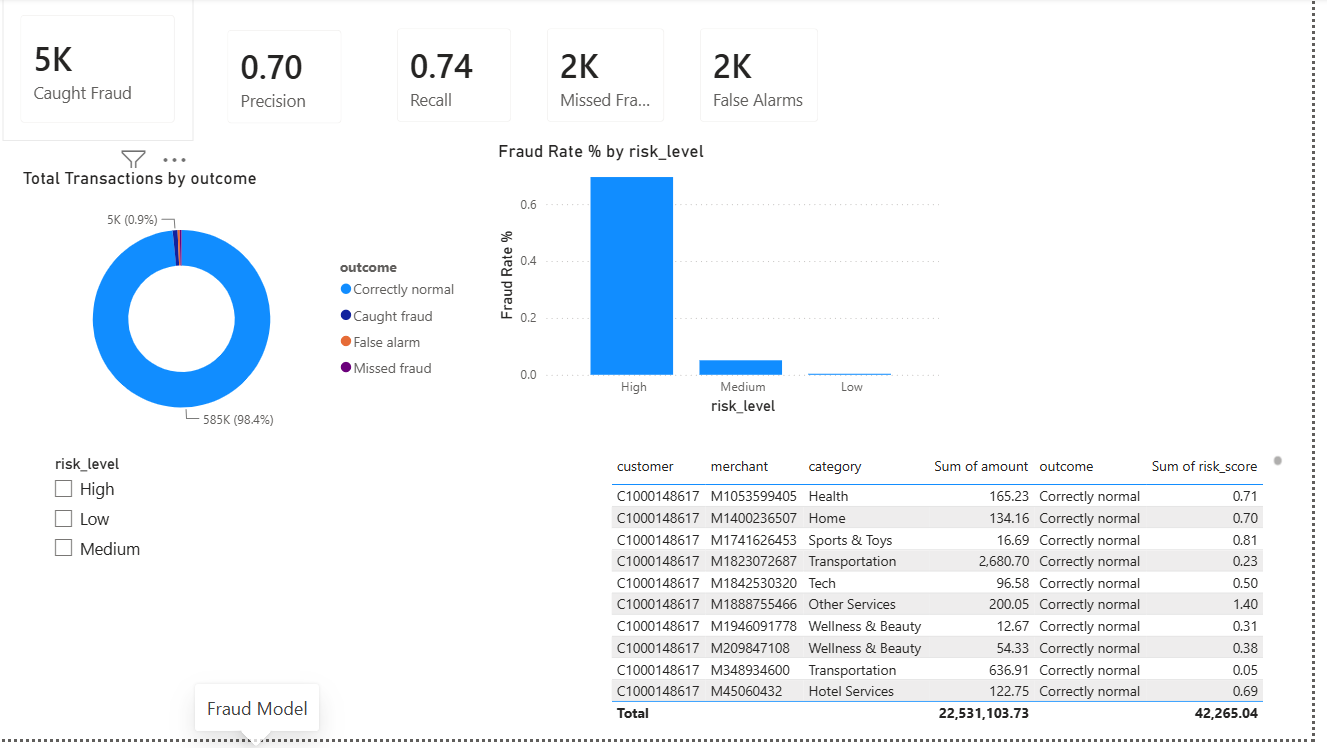

What the dashboard file says about the page in this screenshot:
{"tool":"powerbi","page":{"name":"Fraud Model","canvas":[1280,720],"ordinal":1},"visuals":[{"type":"cardVisual","fields":{"Data":["powerbi_data.Caught Fraud"]},"box":[10.6,0,184.7,139.3],"z":0},{"type":"cardVisual","fields":{"Data":["powerbi_data.Missed Fraud"]},"box":[520.9,13.6,148.4,125.7],"z":1},{"type":"cardVisual","fields":{"Data":["powerbi_data.False Alarms"]},"box":[669.3,13.6,149.9,125.7],"z":2},{"type":"cardVisual","fields":{"Data":["powerbi_data.Precision"]},"box":[210.5,15.1,145.4,125.7],"z":3},{"type":"cardVisual","fields":{"Data":["powerbi_data.Recall"]},"box":[375.5,13.6,145.4,125.7],"z":4},{"type":"donutChart","fields":{"Y":["powerbi_data.Total Transactions"],"Category":["powerbi_data.outcome"]},"box":[24.2,166.6,437.6,272.6],"z":5},{"type":"clusteredColumnChart","fields":{"Y":["powerbi_data.Fraud Rate %"],"Category":["powerbi_data.risk_level"]},"box":[486.1,139.3,437.6,269.5],"z":6},{"type":"tableEx","fields":{"Values":["powerbi_data.customer","powerbi_data.merchant","powerbi_data.category","Sum(powerbi_data.amount)","powerbi_data.outcome","Sum(powerbi_data.risk_score)"]},"box":[595.1,439.1,661.7,269.5],"z":7},{"type":"slicer","fields":{"Values":["powerbi_data.risk_level"]},"box":[48.5,439.1,437.6,269.5],"z":8}]}

Visuals, with their boxes in screenshot pixels (x1, y1, x2, y2), scaled from the page's 1280x720 canvas onto the 1327x748 screenshot:
cardVisual - powerbi_data.Caught Fraud: <region>11, 0, 202, 145</region>
cardVisual - powerbi_data.Missed Fraud: <region>540, 14, 694, 145</region>
cardVisual - powerbi_data.False Alarms: <region>694, 14, 849, 145</region>
cardVisual - powerbi_data.Precision: <region>218, 16, 369, 146</region>
cardVisual - powerbi_data.Recall: <region>389, 14, 540, 145</region>
donutChart - powerbi_data.Total Transactions x powerbi_data.outcome: <region>25, 173, 479, 456</region>
clusteredColumnChart - powerbi_data.Fraud Rate % x powerbi_data.risk_level: <region>504, 145, 958, 425</region>
tableEx - powerbi_data.customer x powerbi_data.merchant: <region>617, 456, 1303, 736</region>
slicer - powerbi_data.risk_level: <region>50, 456, 504, 736</region>
